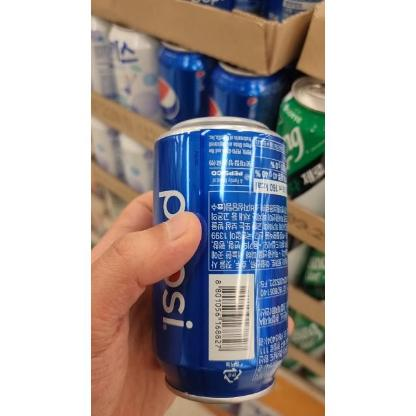Can: (153, 113, 287, 403)
